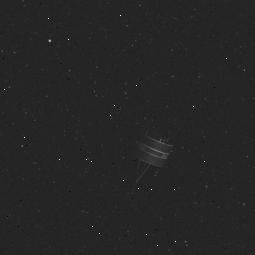double_start: (121, 113, 187, 192)
